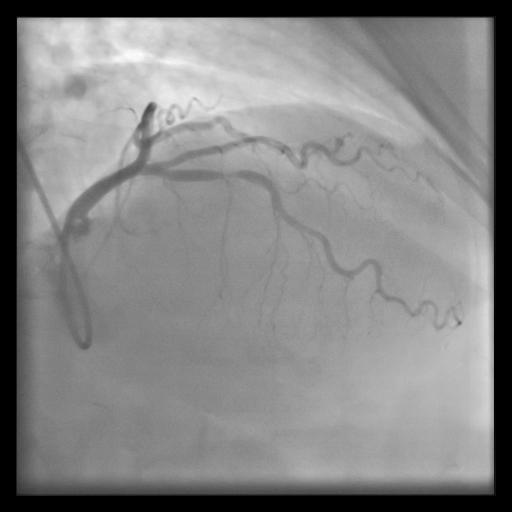Stenosis: (218, 167, 242, 181)
